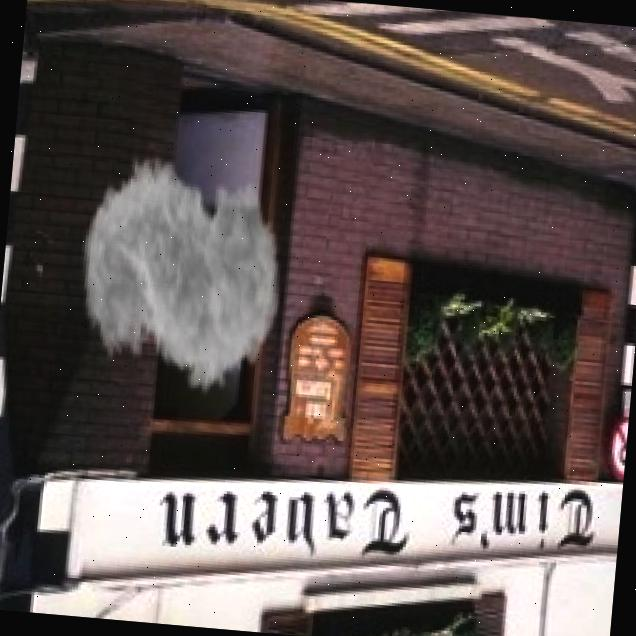smoke: (68, 121, 295, 420)
